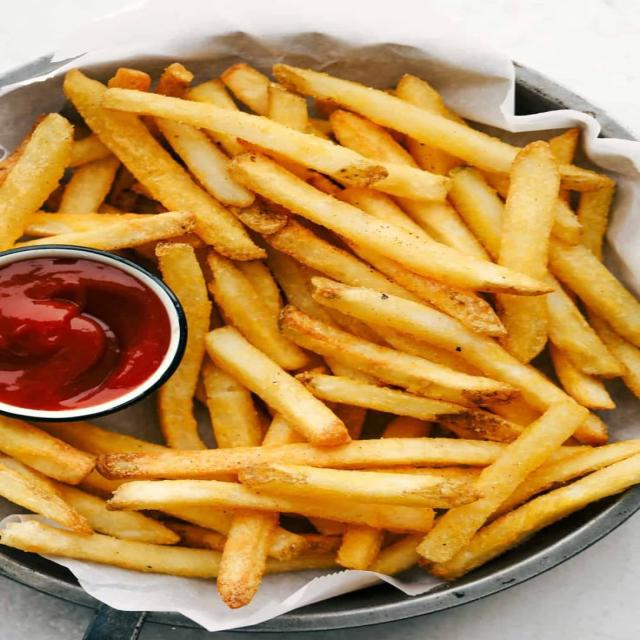potato fries: (0, 63, 639, 608), (233, 154, 548, 295), (103, 89, 446, 199), (65, 70, 264, 259), (314, 279, 567, 411), (418, 402, 587, 562), (274, 64, 518, 172), (430, 455, 639, 579), (280, 305, 517, 404), (206, 327, 349, 444), (108, 481, 433, 532), (99, 438, 504, 478), (348, 243, 505, 336), (299, 373, 519, 439), (1, 521, 220, 577), (207, 250, 308, 369), (156, 243, 211, 449), (494, 440, 639, 516), (239, 465, 480, 508), (0, 114, 73, 251), (550, 243, 639, 346), (156, 119, 253, 206), (499, 142, 559, 279), (547, 276, 623, 377), (57, 483, 179, 544), (0, 456, 92, 533), (17, 212, 194, 251), (0, 416, 95, 484), (218, 509, 278, 608), (201, 360, 262, 448), (449, 167, 503, 259), (330, 111, 417, 166), (549, 345, 615, 409), (590, 314, 639, 397), (58, 156, 119, 213), (25, 212, 140, 236), (578, 187, 614, 259), (221, 63, 270, 115), (337, 525, 384, 570), (267, 84, 308, 131), (69, 134, 111, 167), (108, 68, 151, 91), (208, 132, 244, 157)
